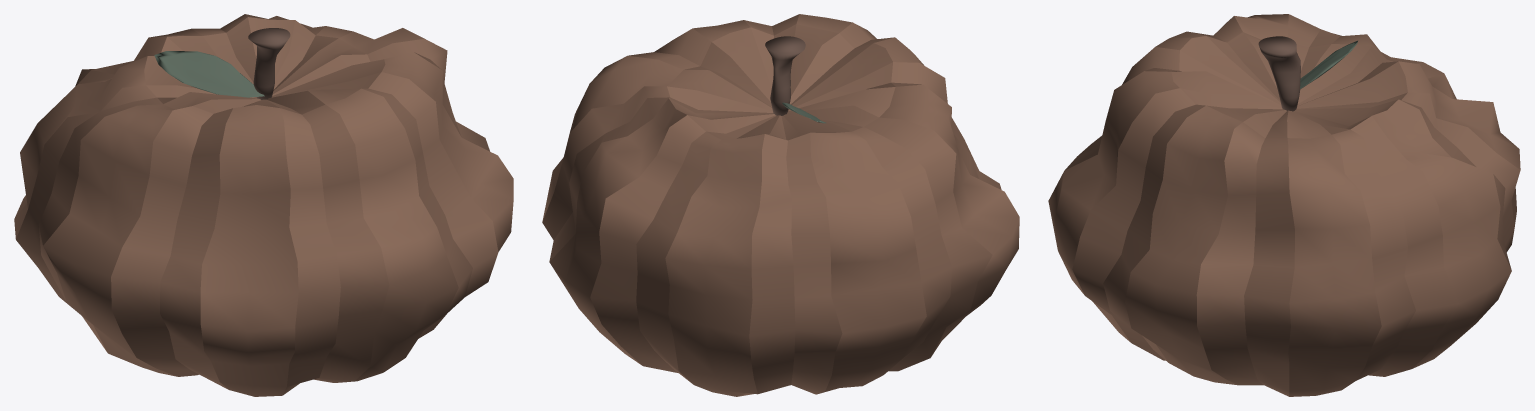
The model's file is pumpkin_dead2.fbx.
3 renders of one model, left to right at view 1: azimuth 30°, elevation 25°; view 2: azimuth 150°, elevation 25°; view 3: azimuth 270°, elevation 25°, orthographic. The views are drawn at different scales.
Visible parts, largest first — view 1: Sphere, Cube, Cylinder; view 2: Sphere, Cylinder; view 3: Sphere, Cylinder, Cube.
Boxes of the visible parts, bbox=[...] form: Sphere: bbox=[14, 14, 513, 396]; Cube: bbox=[154, 51, 264, 97]; Cylinder: bbox=[248, 28, 290, 99]; Sphere: bbox=[542, 14, 1019, 396]; Cylinder: bbox=[765, 36, 805, 115]; Sphere: bbox=[1048, 14, 1520, 396]; Cylinder: bbox=[1258, 36, 1300, 111]; Cube: bbox=[1300, 40, 1357, 89].
Size of the model in its own units: 195 by 132 by 187.
